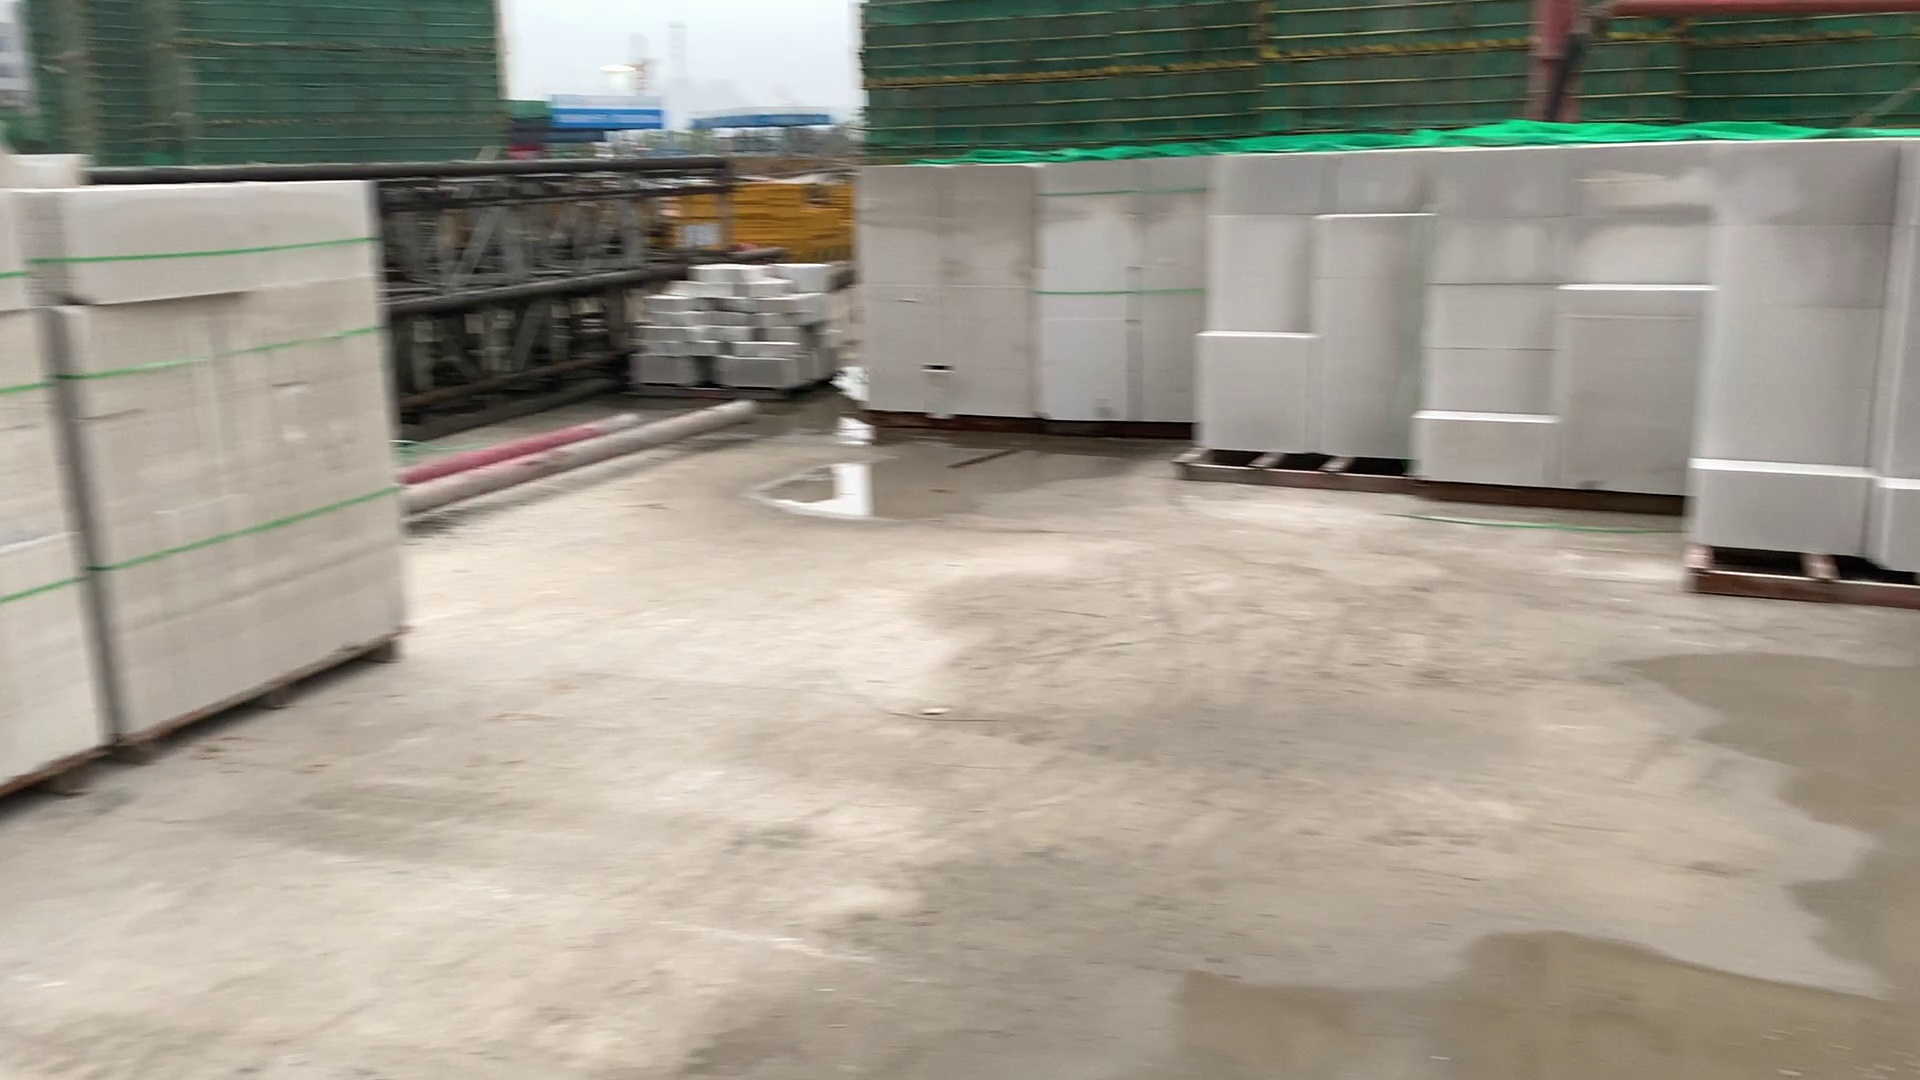brickwork: (49, 183, 396, 711), (1420, 154, 1697, 495), (1706, 142, 1920, 568), (3, 193, 113, 793), (1216, 156, 1415, 469), (1035, 161, 1215, 422), (857, 166, 1035, 422)
